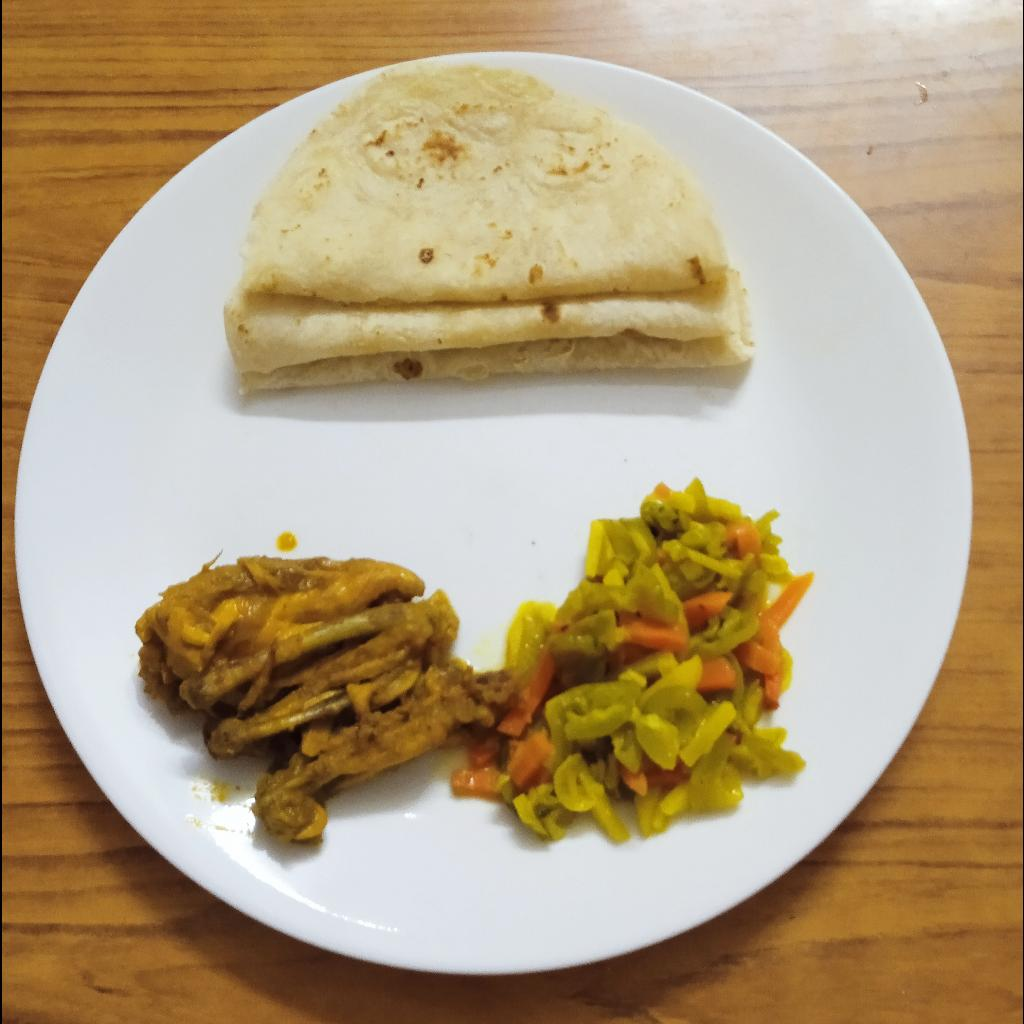chichinga-vaji: (445, 477, 814, 842)
chicken: (135, 555, 511, 842)
ruti: (222, 56, 748, 392)
